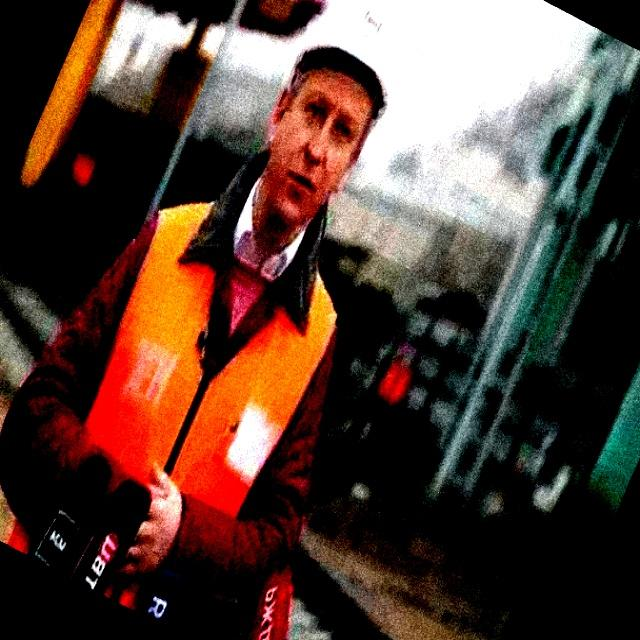helmet: (270, 1, 414, 114)
safety_vest: (102, 185, 331, 606)
